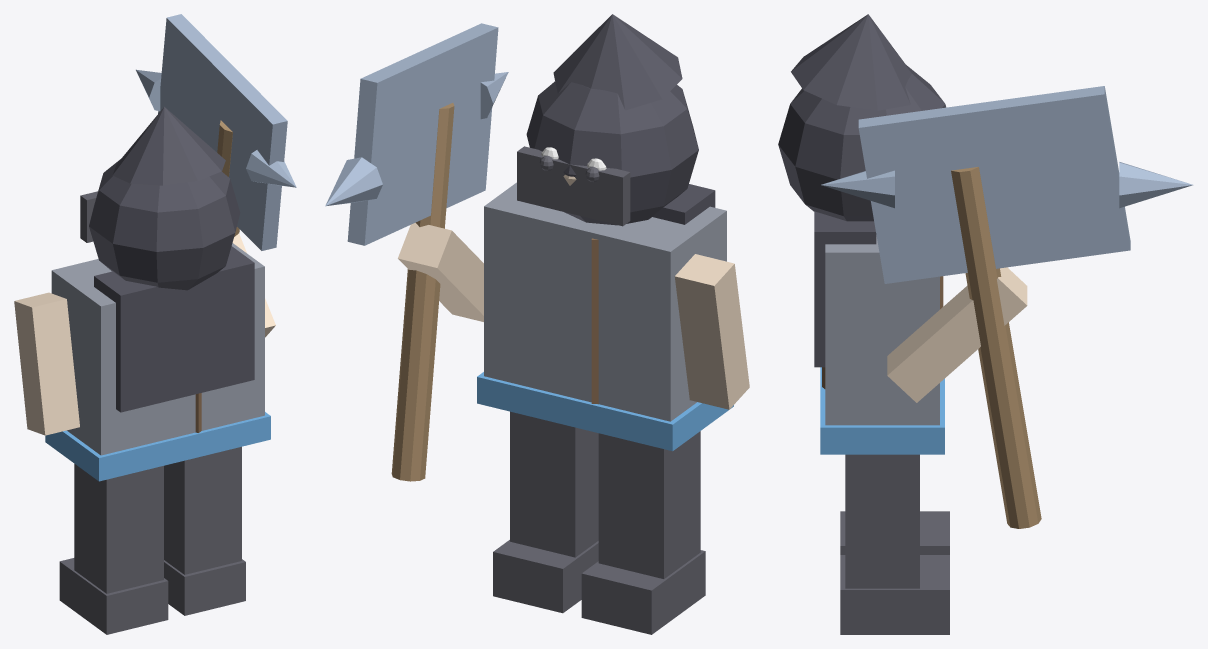
The model's file is executioner.glb.
The picture shows the model from 3 angles, left to right: view 1: azimuth 30°, elevation 25°; view 2: azimuth 150°, elevation 25°; view 3: azimuth 270°, elevation 25°; orthographic projection. The views are drawn at different scales.
Visible parts, largest first — view 1: executioner; view 2: executioner; view 3: executioner.
Part boxes in pixels (box(x1,y1,x2,y2)): executioner: box(14, 14, 296, 634); executioner: box(325, 14, 749, 634); executioner: box(778, 14, 1192, 634).
Bounding box in the file's own units: 1.34 × 2.58 × 1.67.
